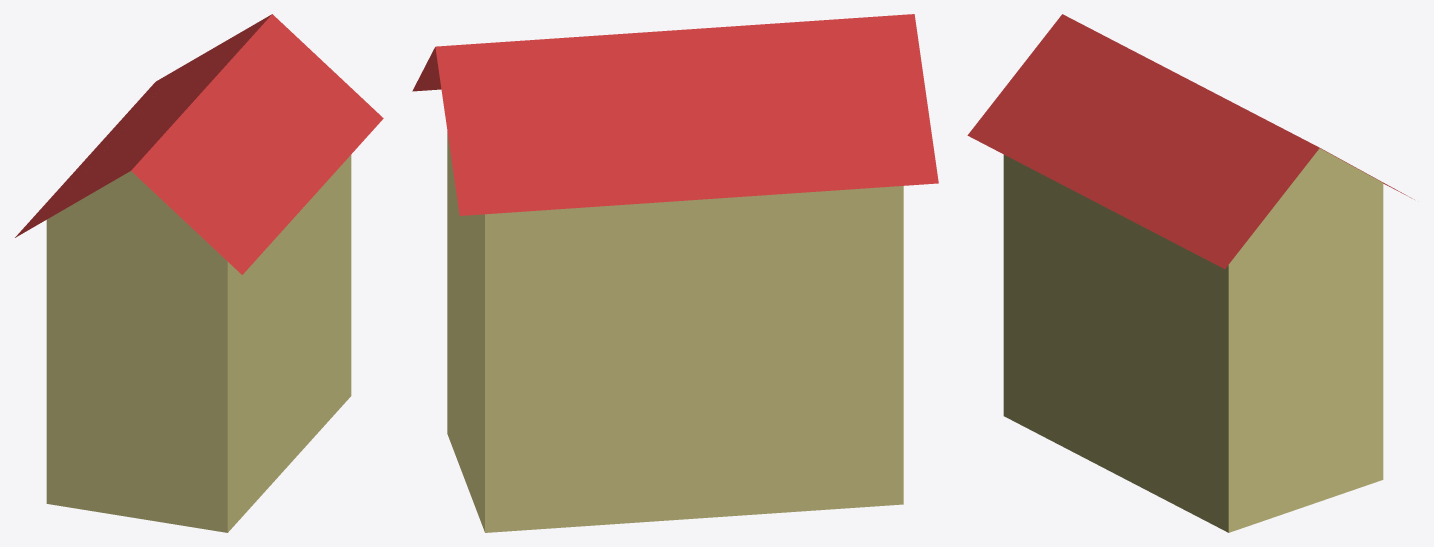
3 renders of one model, left to right at view 1: azimuth 30°, elevation 25°; view 2: azimuth 150°, elevation 25°; view 3: azimuth 270°, elevation 25°, orthographic. The views are drawn at different scales.
Size of the model in its own units: 9.18 by 8.74 by 7.85.
